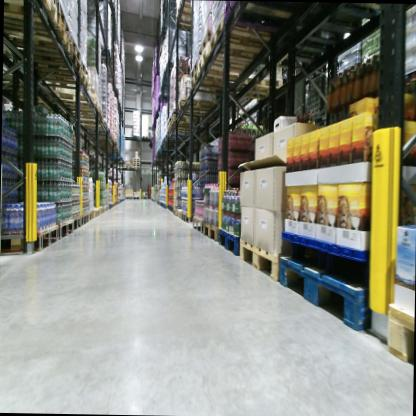pallet: (274, 250, 380, 340), (207, 15, 275, 71), (3, 7, 73, 59), (197, 44, 271, 80), (17, 39, 85, 78), (380, 297, 414, 371), (221, 6, 314, 32), (237, 236, 280, 287), (0, 221, 58, 257), (23, 63, 91, 92), (226, 72, 288, 102), (188, 66, 240, 98), (4, 0, 60, 26), (55, 88, 99, 111), (176, 95, 216, 120), (173, 2, 203, 29), (217, 228, 242, 259), (171, 110, 214, 127), (68, 103, 105, 121), (76, 116, 110, 131), (55, 217, 73, 242), (203, 218, 222, 241), (166, 121, 202, 133), (95, 41, 111, 60), (190, 215, 204, 234), (179, 210, 196, 223), (71, 213, 82, 232), (80, 212, 89, 225), (87, 208, 94, 222), (92, 207, 99, 218), (97, 205, 103, 216), (172, 206, 177, 217), (141, 134, 150, 140), (176, 209, 181, 219), (132, 156, 140, 162), (101, 205, 106, 214), (134, 134, 141, 140), (132, 166, 140, 169), (132, 164, 140, 167), (132, 162, 140, 165), (124, 165, 132, 168), (106, 204, 109, 210)
